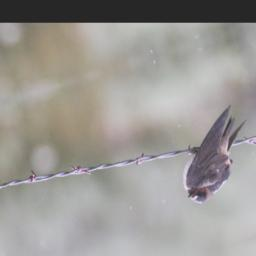Swallow: (165, 100, 256, 209)
